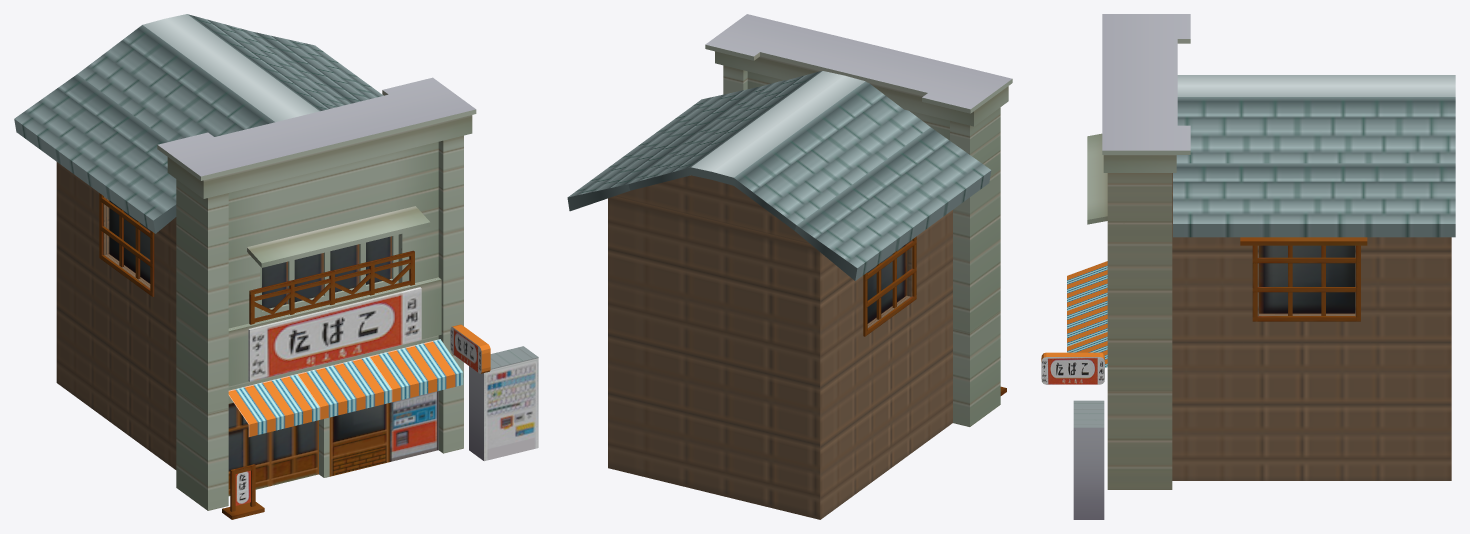
File: building_01.FBX
The picture shows the model from 3 angles, left to right: view 1: azimuth 30°, elevation 25°; view 2: azimuth 150°, elevation 25°; view 3: azimuth 270°, elevation 25°; orthographic projection. The views are drawn at different scales.
Visible parts, largest first — view 1: building_01; view 2: building_01; view 3: building_01.
Part boxes in pixels (left/top/right/bottom): building_01: left=14, top=14, right=538, bottom=519; building_01: left=567, top=14, right=1012, bottom=519; building_01: left=1041, top=14, right=1455, bottom=519.
Size of the model in its own units: 142802 by 137840 by 149820.
